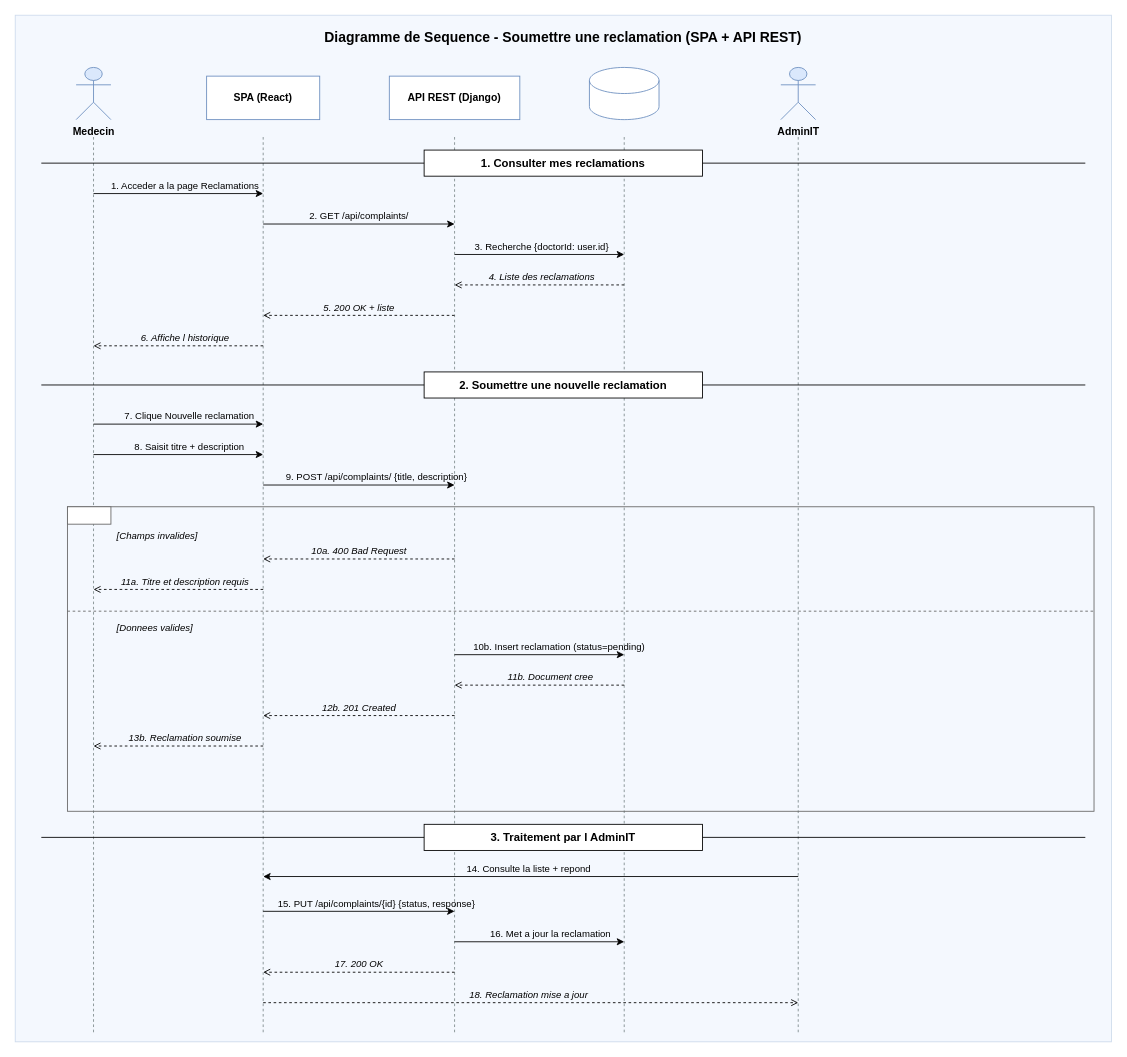
This 1127x1057 diagram has some shape labels left out. Here are the shapes that lost their labels. From the top down, the centre of each, then its label:
point 624,93: MongoDB
point 89,515: alt
